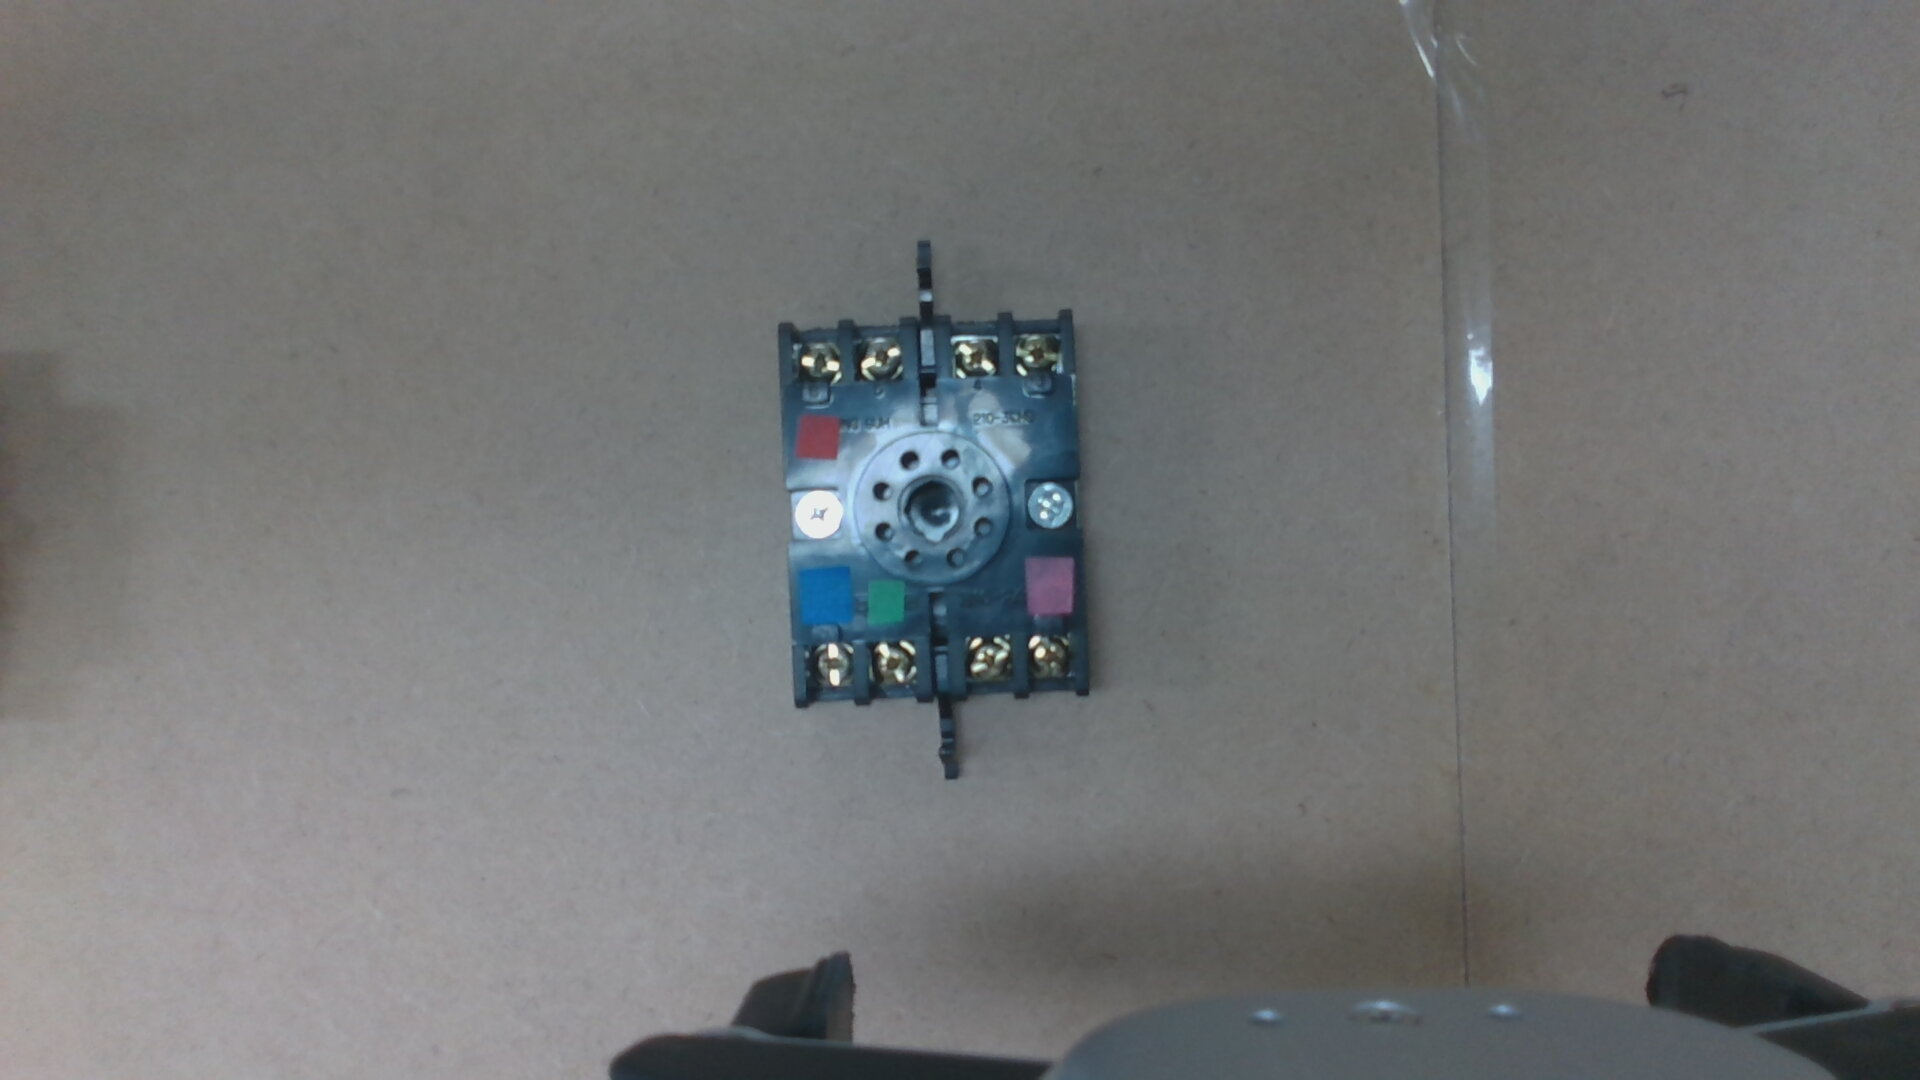timer 2: (1029, 637, 1069, 675)
timer 6: (795, 342, 837, 380)
timer 7: (808, 647, 852, 684)
timer 8: (872, 644, 914, 683)
